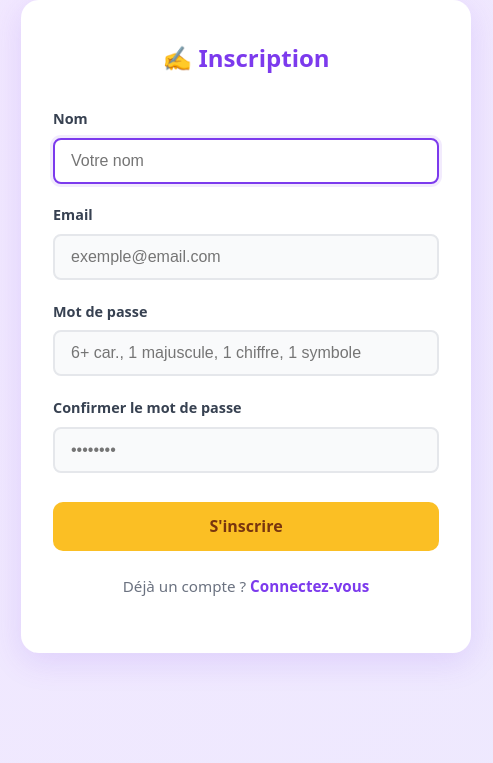
Test: Inscription — Validation du champ Email › doit afficher une erreur si le format de l'email est invalide
In the field with placeholder "Votre nom": (246, 161) [53,138,439,184], type "Alice"
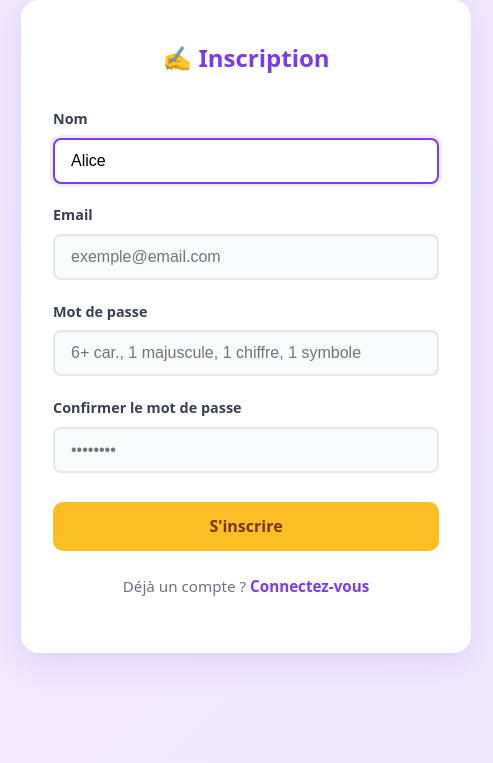
// fireEvent contourne la validation HTML5 native de jsdom pour tester notre regex
In the field with placeholder "exemple@email.com": (246, 257) [53,234,439,280], type "noreply@invalid"
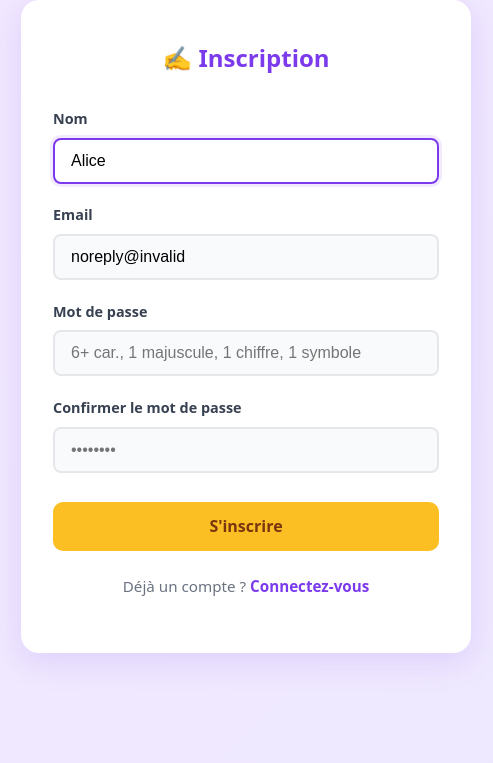
Click the button "S'inscrire": click(246, 526) [53,502,439,551]
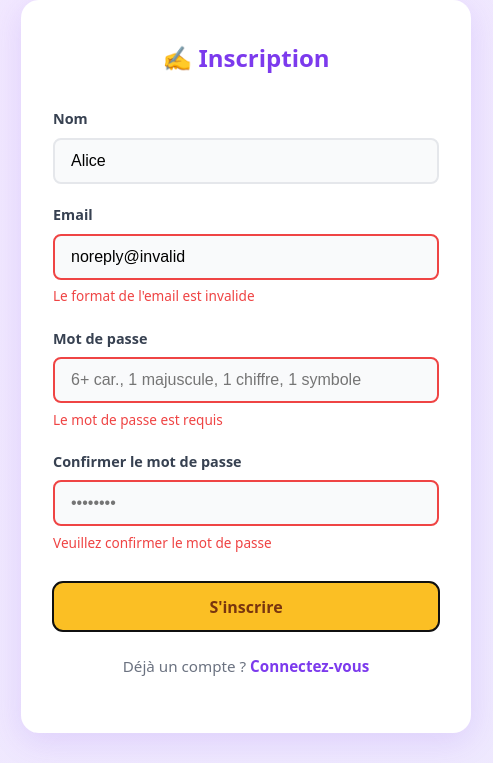
Result: the text "Le format de l'email est invalide" is shown at [53,286,255,305]
